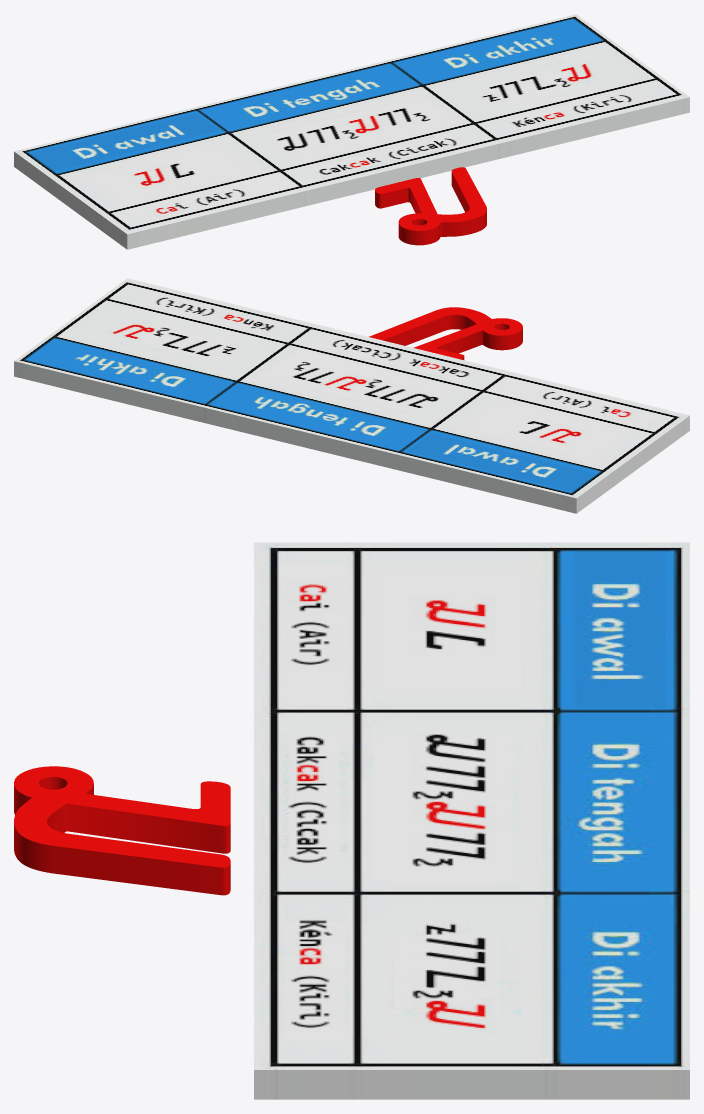
The picture shows the model from 3 angles, top to bottom: view 1: azimuth 30°, elevation 25°; view 2: azimuth 150°, elevation 25°; view 3: azimuth 270°, elevation 25°; orthographic projection. The views are drawn at different scales.
Visible parts, largest first — view 1: contoh-bunyi-huruf-ca-Ngalagena, Text; view 2: contoh-bunyi-huruf-ca-Ngalagena, Text; view 3: contoh-bunyi-huruf-ca-Ngalagena, Text.
Boxes of the visible parts, x1,y1,x2,y2 form: contoh-bunyi-huruf-ca-Ngalagena: (14, 14, 689, 249); Text: (375, 167, 486, 245); contoh-bunyi-huruf-ca-Ngalagena: (14, 278, 689, 513); Text: (369, 307, 522, 359); contoh-bunyi-huruf-ca-Ngalagena: (254, 542, 689, 1099); Text: (14, 766, 230, 895).
Bounding box in the file's own units: 2.86 × 0.11 × 1.55.
Materials: 2 (1 with a texture image).
